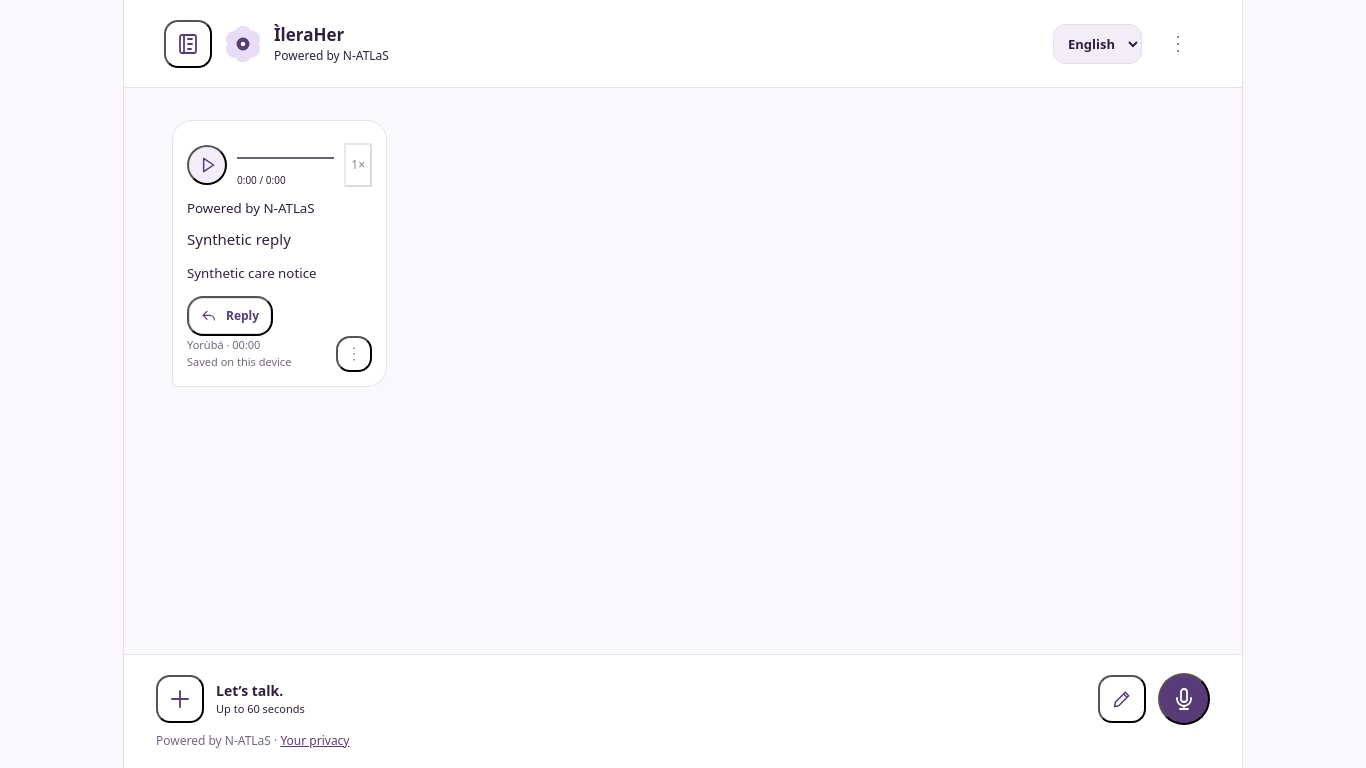
YarnGPT is the chat speaker › shows Hugging Face's retry date and time in WAT on a failed listening request
Click the button named "Listen to reply". click: [207, 165]
box: [187,145,227,185]
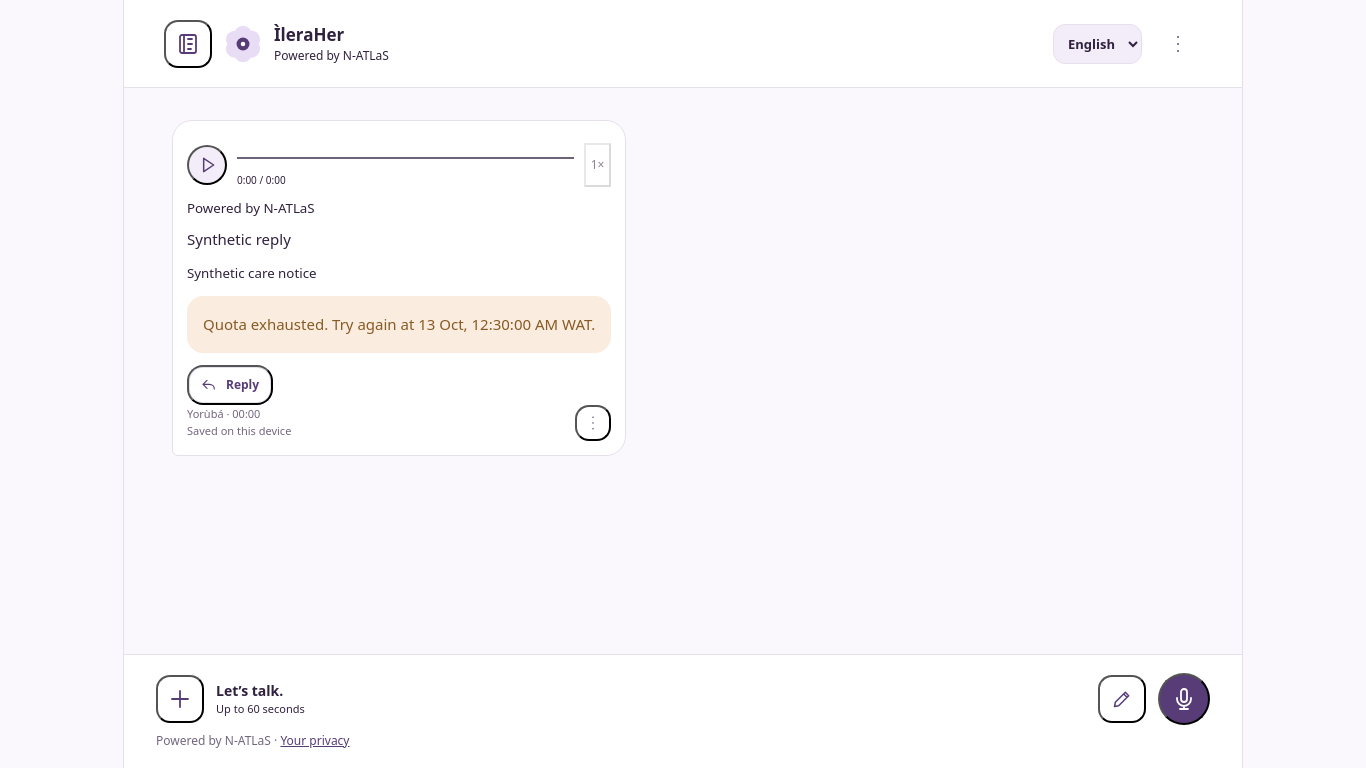
expect the text "Synthetic reply" is shown: met, box [187,229,291,249]
expect the text "Quota exhausted. Try again at 13 Oct, 12:30:00 AM WAT." is shown: met, box [187,296,611,353]
